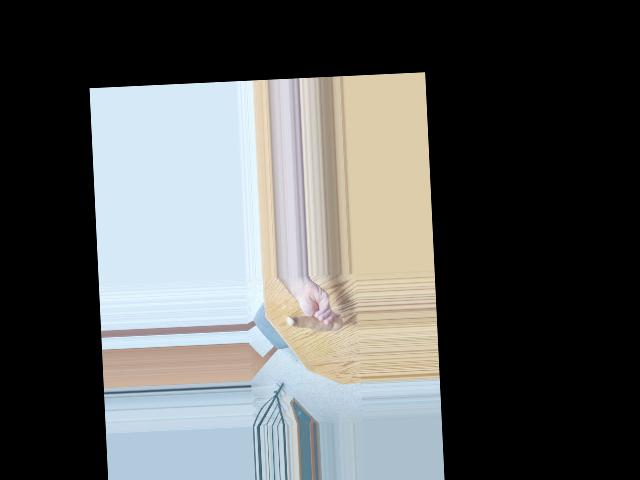sweet_potato: (287, 308, 343, 335)
